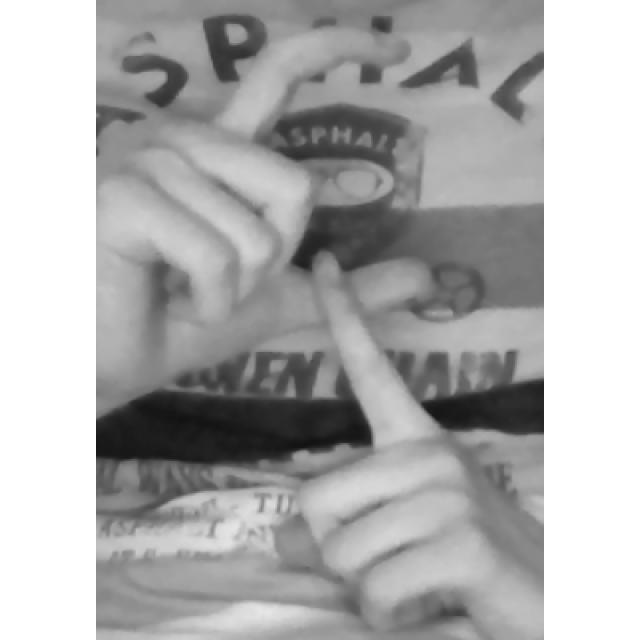C_: (94, 22, 542, 640)
